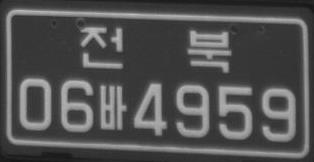0: (19, 77, 52, 130)
4: (133, 82, 167, 135)
5: (219, 85, 253, 139)
6: (61, 79, 94, 132)
9: (261, 86, 296, 143), (175, 83, 209, 138)
바: (100, 85, 126, 129)
전북_D: (80, 26, 232, 72)
